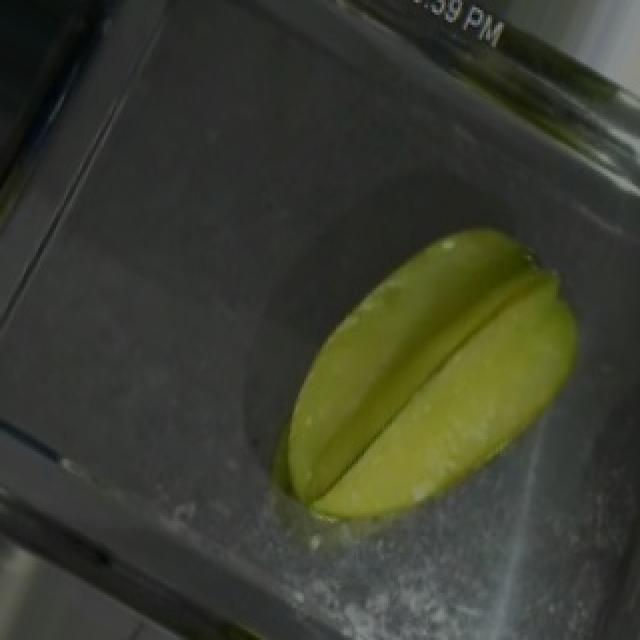fruit: (264, 174, 628, 550)
